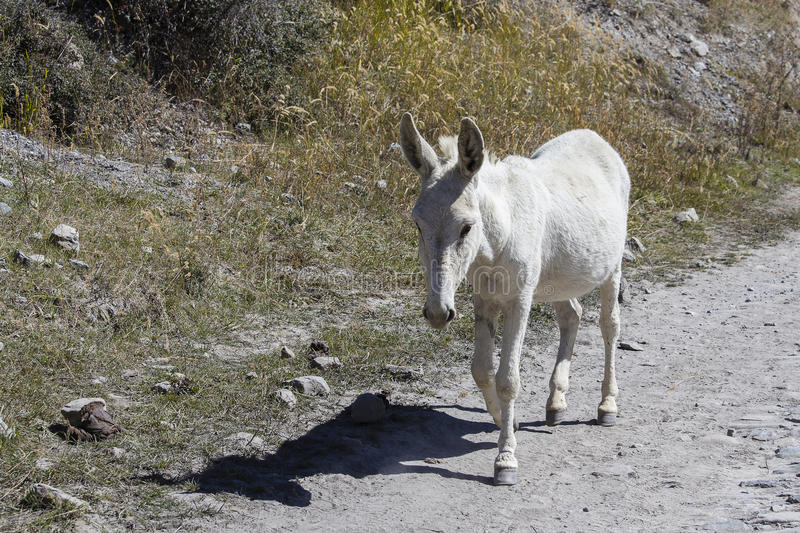equine: (366, 91, 670, 499)
